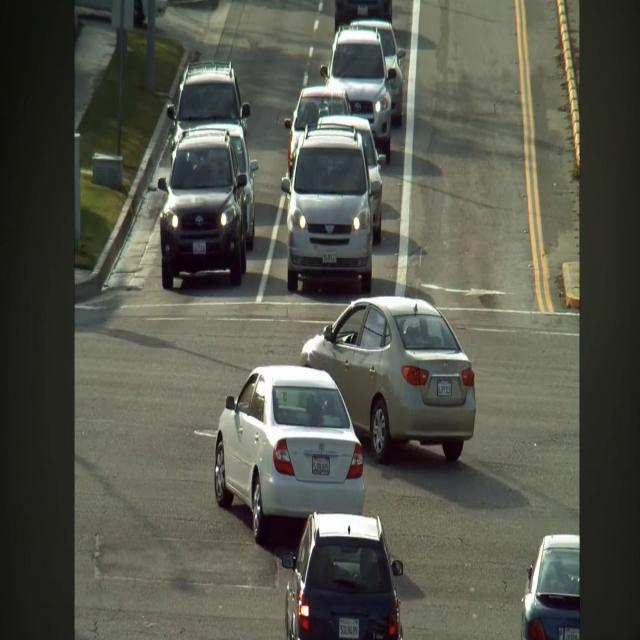car: (299, 296, 475, 464), (215, 366, 364, 543), (281, 512, 403, 639), (281, 126, 372, 293), (158, 128, 247, 289), (320, 27, 396, 162), (318, 116, 385, 244), (198, 124, 258, 251), (167, 61, 250, 148), (521, 534, 579, 639), (284, 86, 350, 177), (351, 19, 405, 126), (335, 0, 392, 31), (134, 0, 148, 28)
